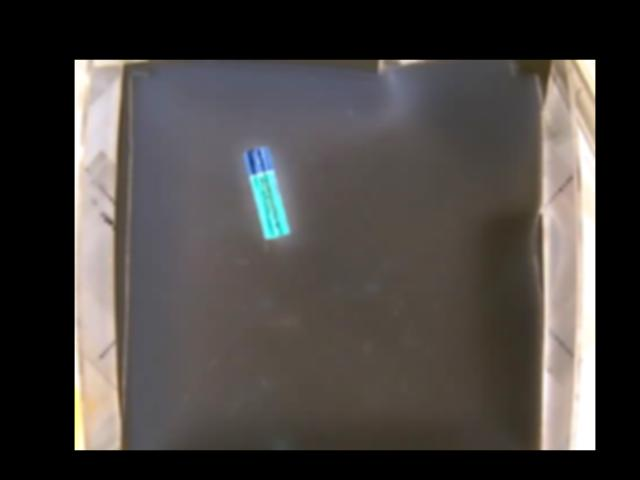Battery: (243, 145, 291, 239)
